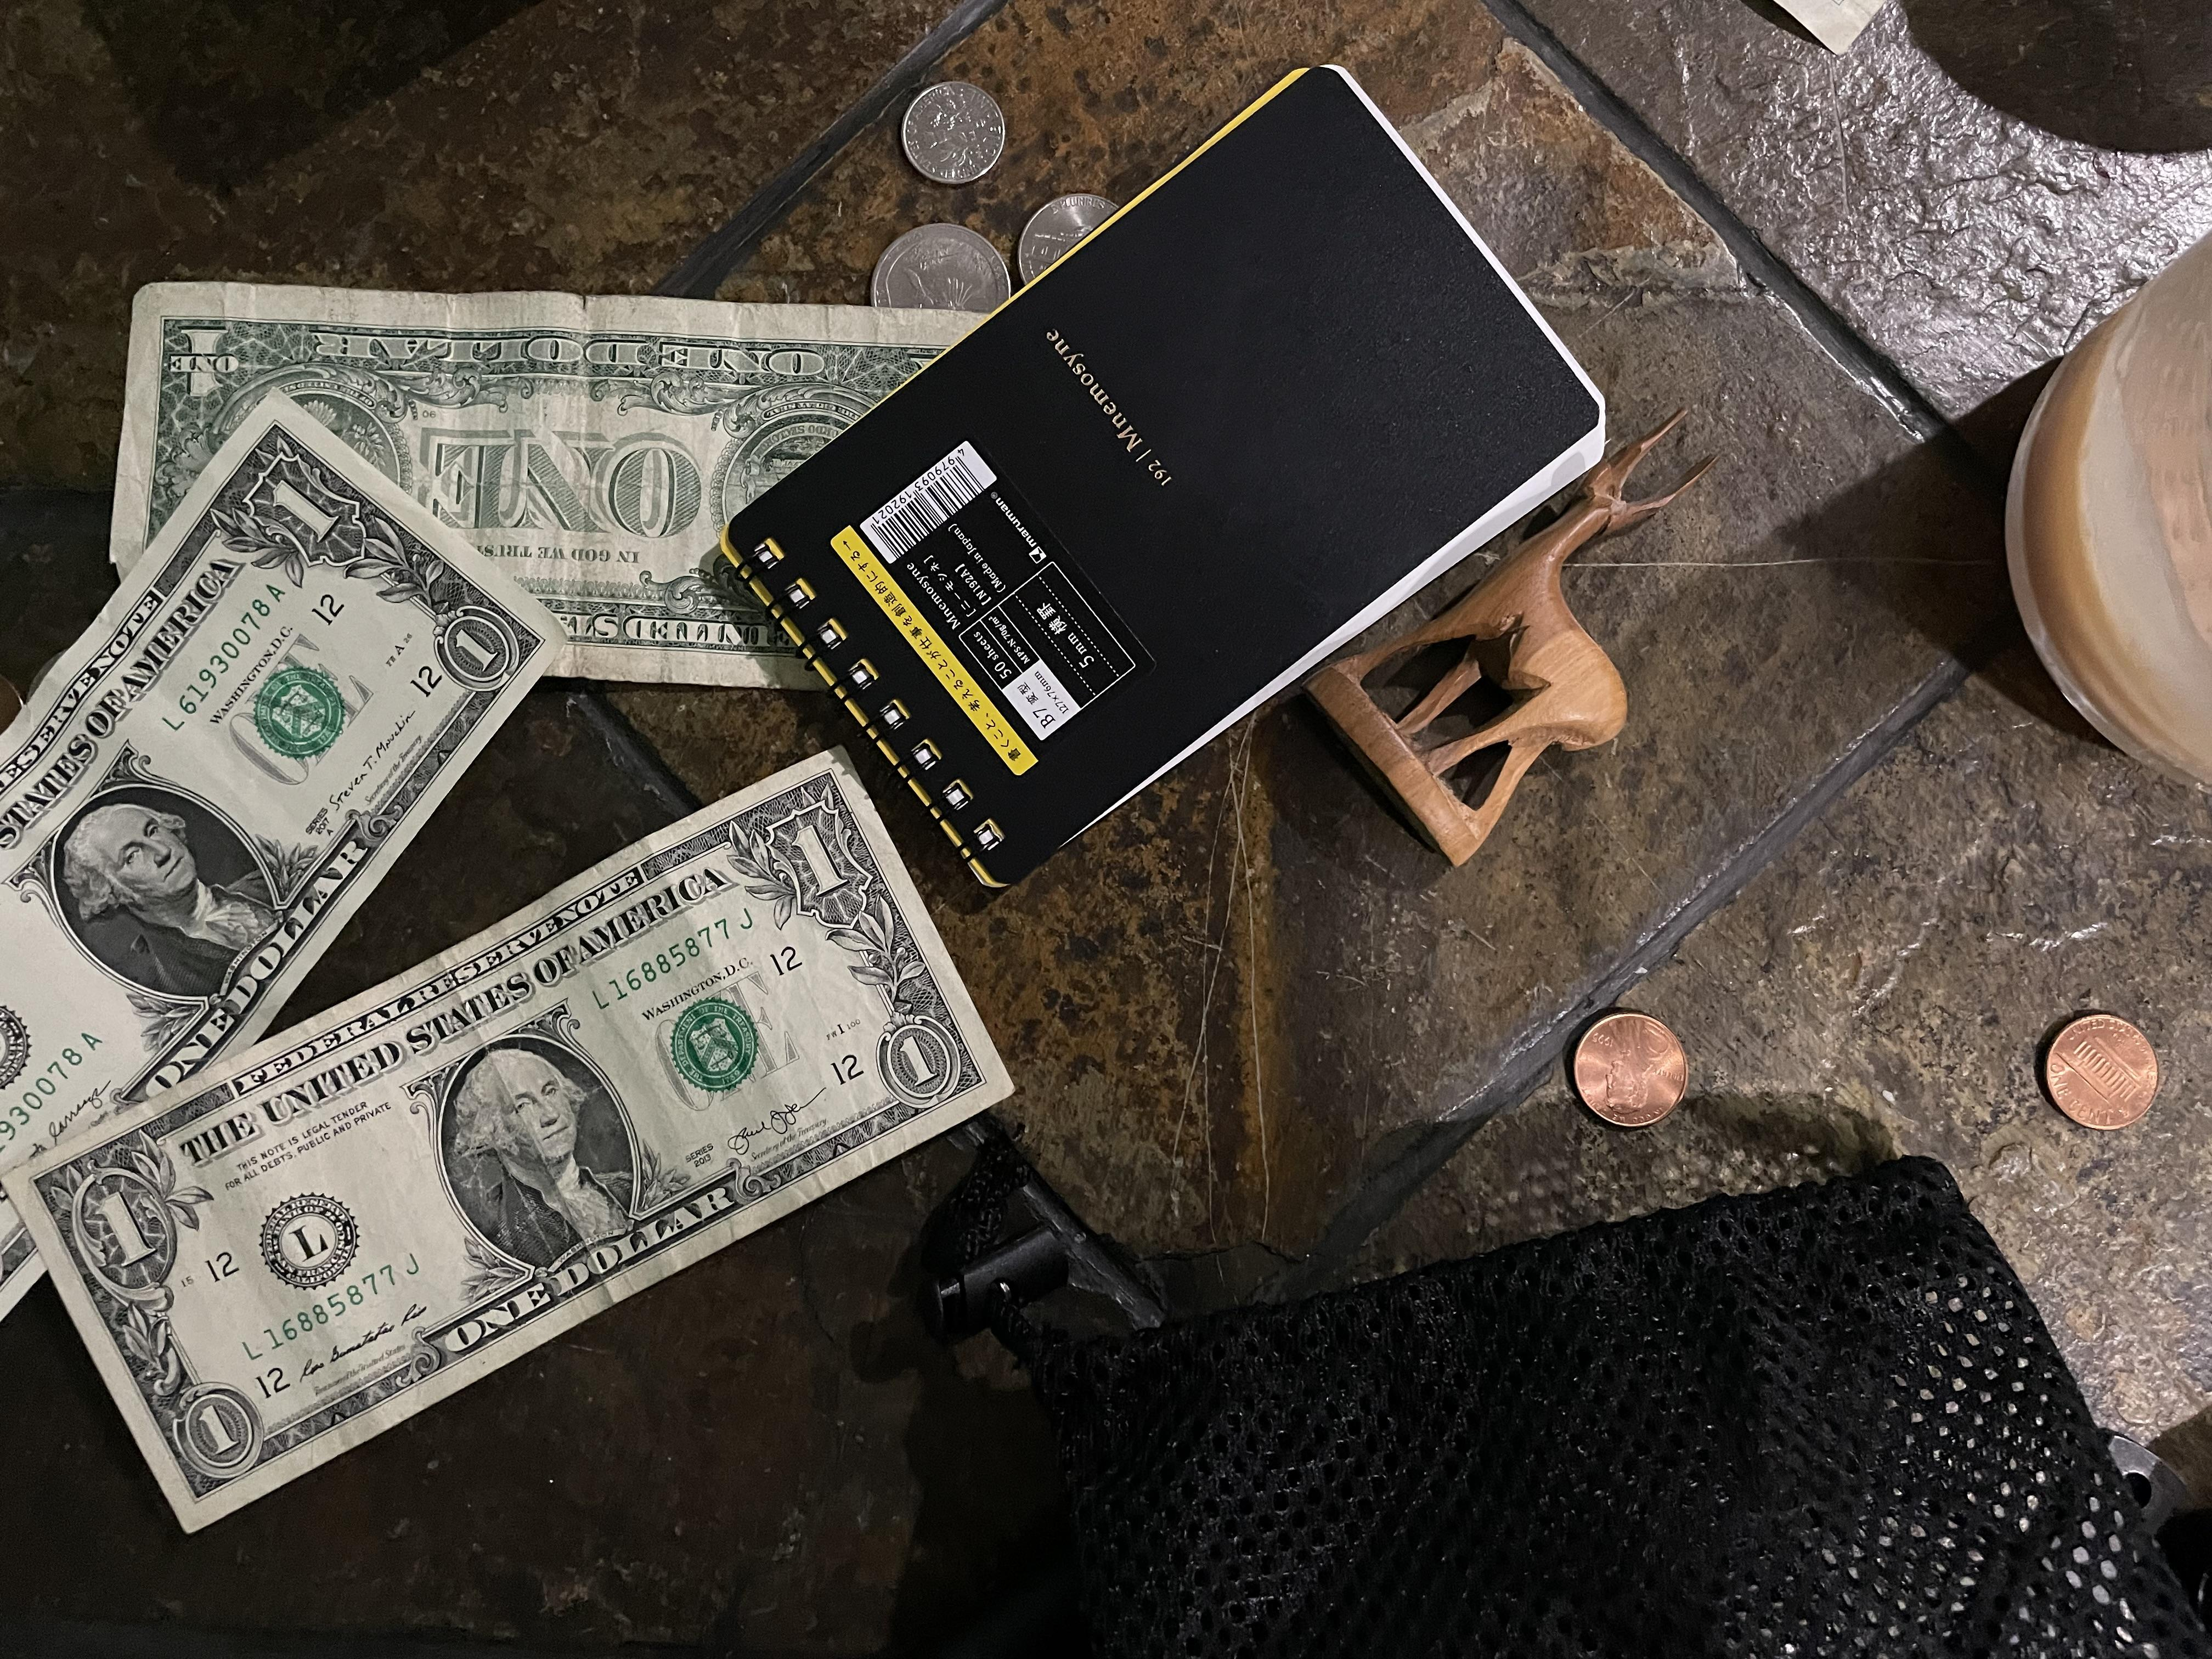Dime: (892, 80, 1031, 186)
OneBill: (37, 746, 1012, 1547), (16, 385, 559, 1209), (118, 270, 1054, 709)
Penny: (2020, 997, 2188, 1154), (1554, 999, 1716, 1141)
Quarter: (874, 221, 1021, 315)
